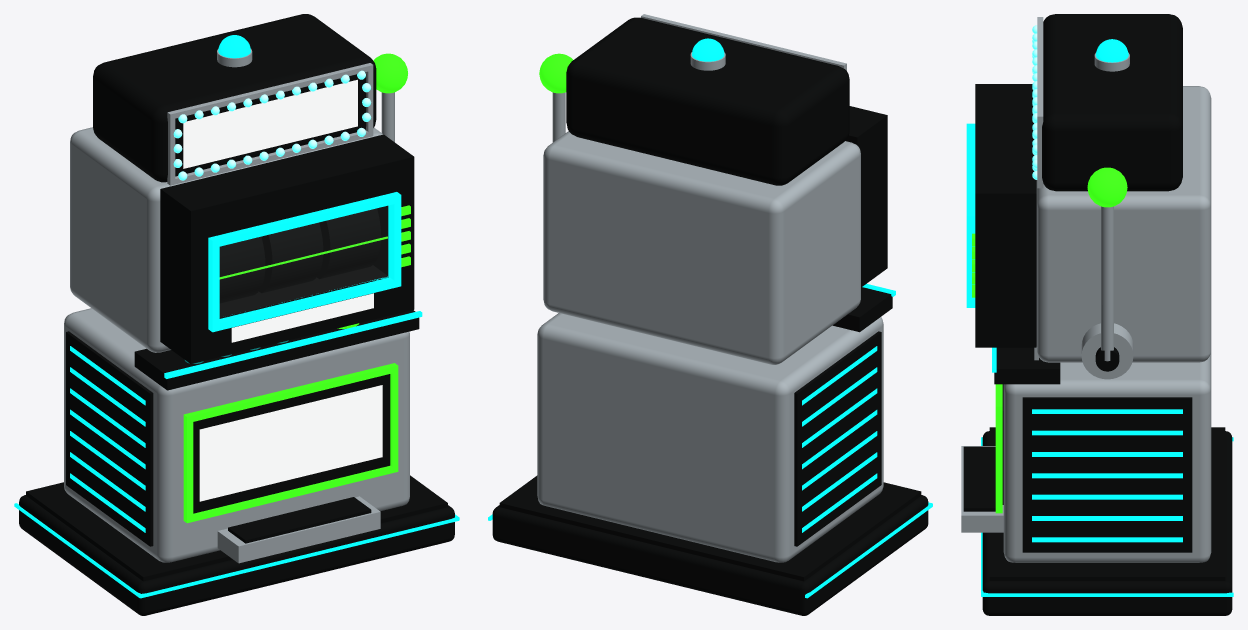
File: money-machine.glb
The picture shows the model from 3 angles, left to right: view 1: azimuth 30°, elevation 25°; view 2: azimuth 150°, elevation 25°; view 3: azimuth 270°, elevation 25°; orthographic projection.
Visible parts, largest first — view 1: ReelBox, Cabinet, Marquee, UpperCabinet, Base, LowerSign, SidePanel_L, MarqueeSign, WindowFrame, BaseTrim, LowerFrame, LowerPanel (+14 smaller); view 2: UpperCabinet, Cabinet, Marquee, Base, SidePanel_L, BaseTrim, ReelBox, SideStripes_L, Deck, MarqueeTrim, LeverBall, BaseGlow (+2 smaller); view 3: UpperCabinet, Marquee, SidePanel_R, ReelBox, Cabinet, Base, BaseTrim, SideStripes_R, CoinTrayInner, Deck, LeverRod, LeverHub (+8 smaller).
Part boxes in pixels (bbox=[...]): ReelBox: bbox=[160, 134, 414, 363]; Cabinet: bbox=[64, 308, 409, 562]; Marquee: bbox=[93, 14, 376, 182]; UpperCabinet: bbox=[70, 127, 383, 352]; Base: bbox=[19, 495, 454, 615]; LowerSign: bbox=[199, 385, 382, 501]; SidePanel_L: bbox=[66, 331, 153, 546]; MarqueeSign: bbox=[183, 79, 357, 168]; WindowFrame: bbox=[208, 192, 401, 332]; BaseTrim: bbox=[26, 475, 447, 581]; LowerFrame: bbox=[183, 363, 398, 523]; LowerPanel: bbox=[193, 374, 390, 513]; UpperCabinet: bbox=[543, 131, 860, 364]; Cabinet: bbox=[537, 313, 883, 562]; Marquee: bbox=[566, 17, 849, 185]; Base: bbox=[492, 495, 928, 615]; SidePanel_L: bbox=[794, 331, 881, 546]; BaseTrim: bbox=[499, 475, 921, 581]; ReelBox: bbox=[845, 106, 887, 287]; SideStripes_L: bbox=[802, 346, 877, 532]; Deck: bbox=[832, 287, 892, 332]; MarqueeTrim: bbox=[641, 14, 846, 70]; LeverBall: bbox=[539, 53, 572, 93]; BaseGlow: bbox=[488, 502, 932, 598]; UpperCabinet: bbox=[1036, 86, 1211, 362]; Marquee: bbox=[1042, 14, 1182, 191]; SidePanel_R: bbox=[1022, 397, 1192, 552]; ReelBox: bbox=[975, 84, 1036, 347]; Cabinet: bbox=[1003, 351, 1211, 562]; Base: bbox=[982, 431, 1232, 615]; BaseTrim: bbox=[989, 427, 1225, 580]; SideStripes_R: bbox=[1032, 409, 1182, 542]; CoinTrayInner: bbox=[963, 446, 995, 511]; Deck: bbox=[994, 347, 1060, 384]; LeverRod: bbox=[1101, 206, 1113, 361]; LeverHub: bbox=[1081, 323, 1133, 379].
Bounding box in the file's own units: 1.62 × 2.34 × 1.16.
